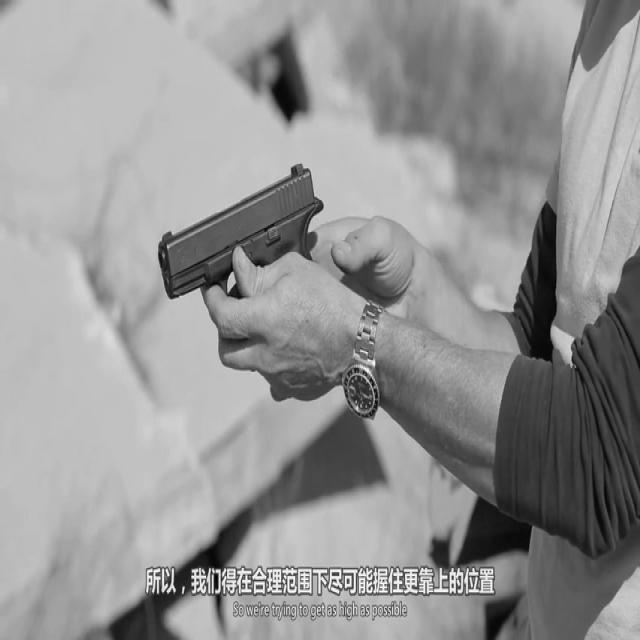Hand-Gun: (160, 148, 326, 404)
